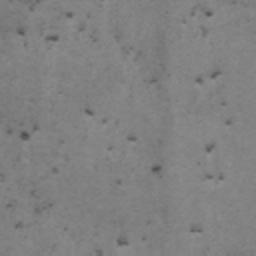Oxide scale of temperature system: (17, 0, 160, 84), (83, 106, 163, 186), (0, 124, 60, 230), (193, 69, 233, 182), (188, 5, 212, 37), (93, 236, 131, 256), (187, 224, 204, 234)
